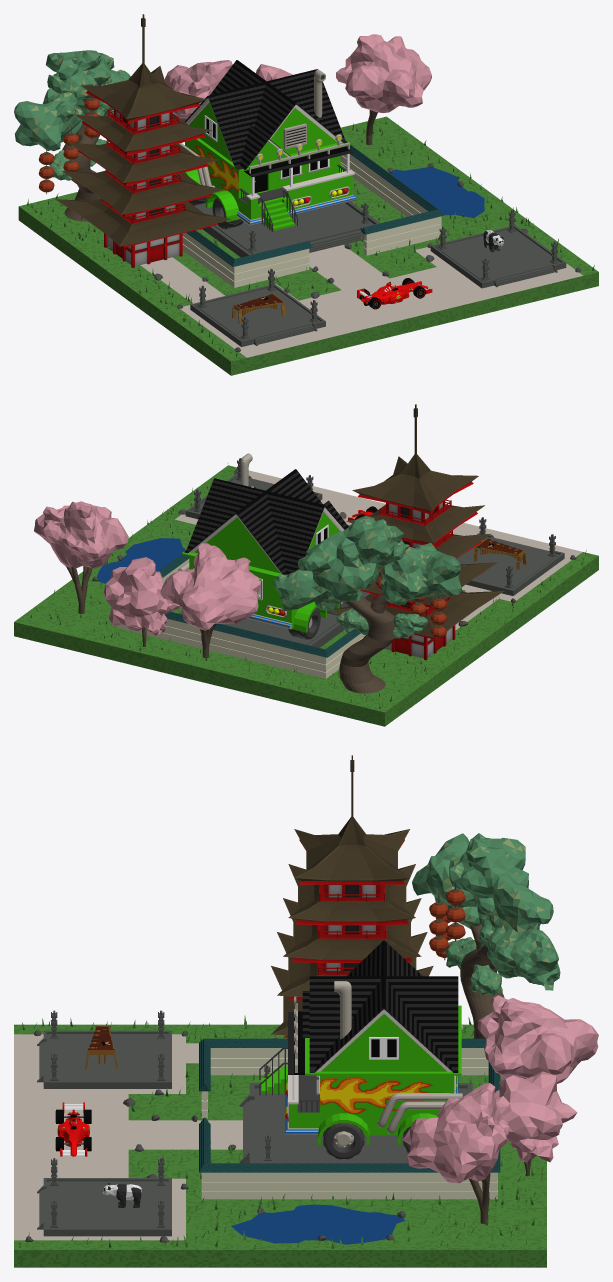
3 views of the same model, one above another, from view 1: azimuth 30°, elevation 25°; view 2: azimuth 150°, elevation 25°; view 3: azimuth 270°, elevation 25° (orthographic). The views are drawn at different scales.
Visible parts, largest first — view 1: Cube.005, Cube.1474, VEHICLES_FORMULA_1, OBJRANDOM_MARIMBA; view 2: Cube.005, Cube.1474, OBJRANDOM_MARIMBA; view 3: Cube.005, Cube.1474, VEHICLES_FORMULA_1, OBJRANDOM_MARIMBA.
Boxes of the visible parts, x1,y1,x2,y2 form: Cube.005: [14, 14, 598, 375]; Cube.1474: [179, 60, 356, 231]; VEHICLES_FORMULA_1: [357, 278, 432, 309]; OBJRANDOM_MARIMBA: [232, 293, 285, 323]; Cube.005: [14, 404, 598, 726]; Cube.1474: [178, 453, 350, 639]; OBJRANDOM_MARIMBA: [473, 538, 526, 569]; Cube.005: [14, 755, 598, 1267]; Cube.1474: [259, 940, 462, 1159]; VEHICLES_FORMULA_1: [55, 1102, 91, 1156]; OBJRANDOM_MARIMBA: [85, 1025, 117, 1068].
Bounding box in the file's own units: 4528 × 2640 × 4389.
Materials: 43 (7 with a texture image).
